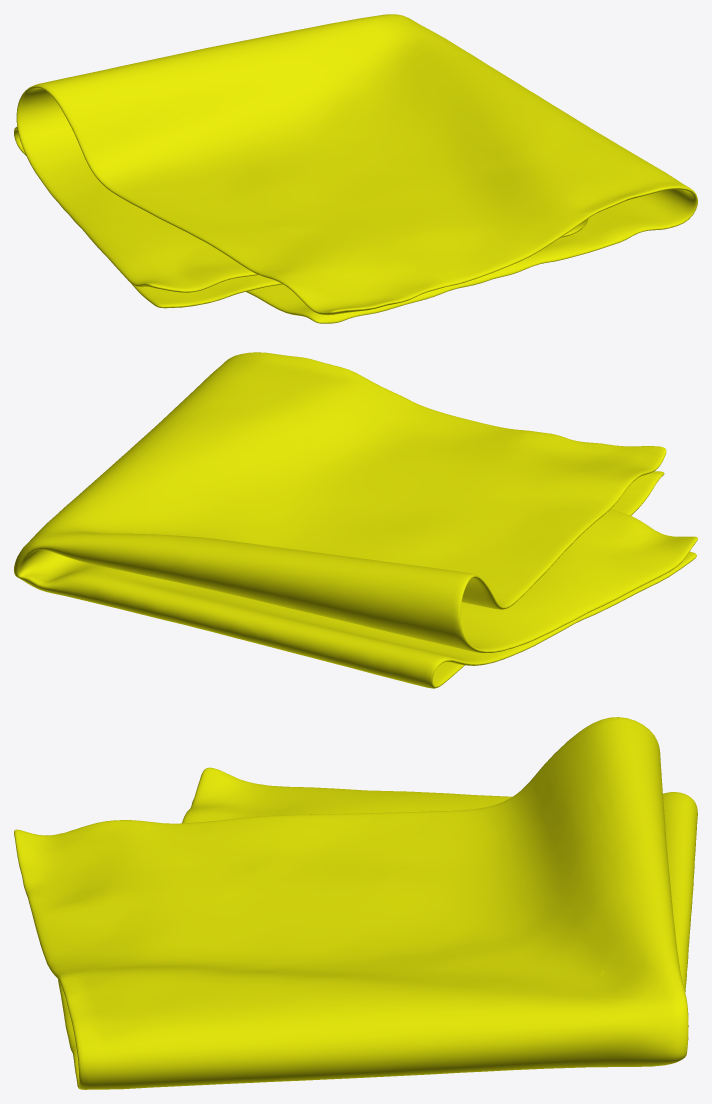
File: DryHankerchief.fbx
The picture shows the model from 3 angles, top to bottom: view 1: azimuth 30°, elevation 25°; view 2: azimuth 150°, elevation 25°; view 3: azimuth 270°, elevation 25°; orthographic projection. The views are drawn at different scales.
Parts seen in each view (by area): view 1: DryHanker; view 2: DryHanker; view 3: DryHanker.
Part boxes in pixels (left/top/right/bottom): DryHanker: left=14, top=14, right=697, bottom=323; DryHanker: left=14, top=352, right=697, bottom=688; DryHanker: left=14, top=717, right=697, bottom=1089.
Bounding box in the file's own units: 20.35 × 19.14 × 3.68.
